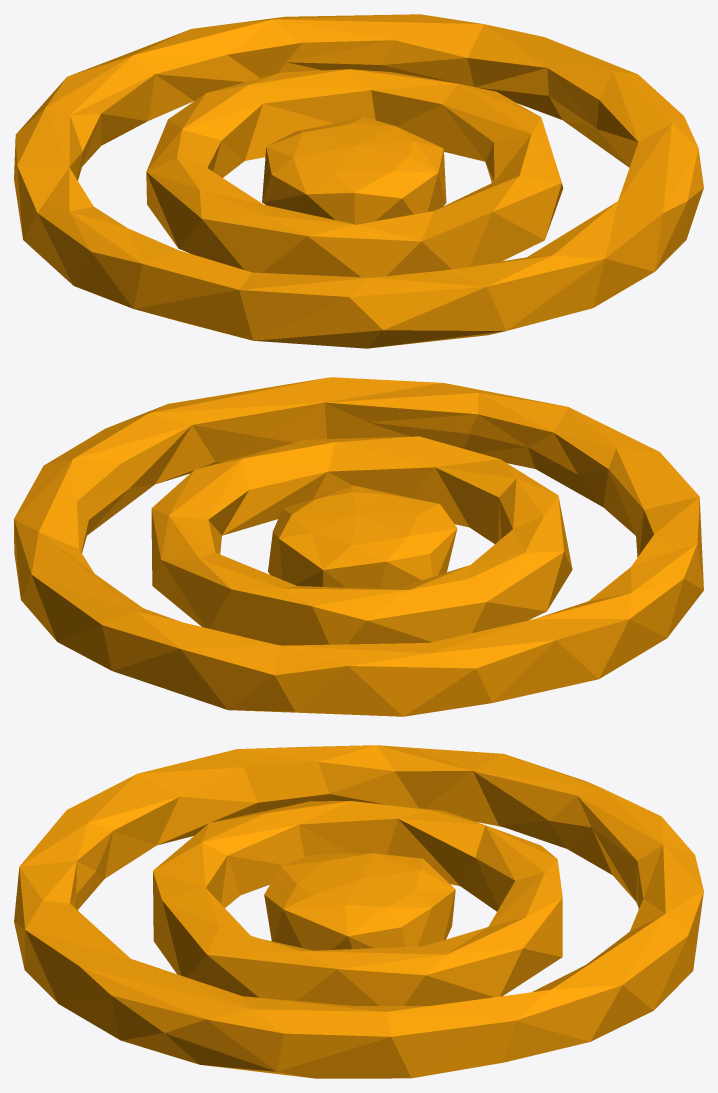
The model's file is story_completed.fbx.
3 renders of one model, top to bottom at view 1: azimuth 30°, elevation 25°; view 2: azimuth 150°, elevation 25°; view 3: azimuth 270°, elevation 25°, orthographic.
Parts seen in each view (by area): view 1: Out, Middle, In; view 2: Out, Middle, In; view 3: Out, Middle, In.
Boxes of the visible parts, x1,y1,x2,y2 form: Out: [14, 14, 703, 348]; Middle: [146, 69, 563, 277]; In: [262, 117, 446, 224]; Out: [14, 377, 703, 716]; Middle: [151, 436, 572, 645]; In: [268, 485, 457, 589]; Out: [14, 745, 703, 1078]; Middle: [153, 801, 562, 1005]; In: [264, 853, 455, 950].
Bounding box in the file's own units: 19.55 × 2.31 × 19.62.
